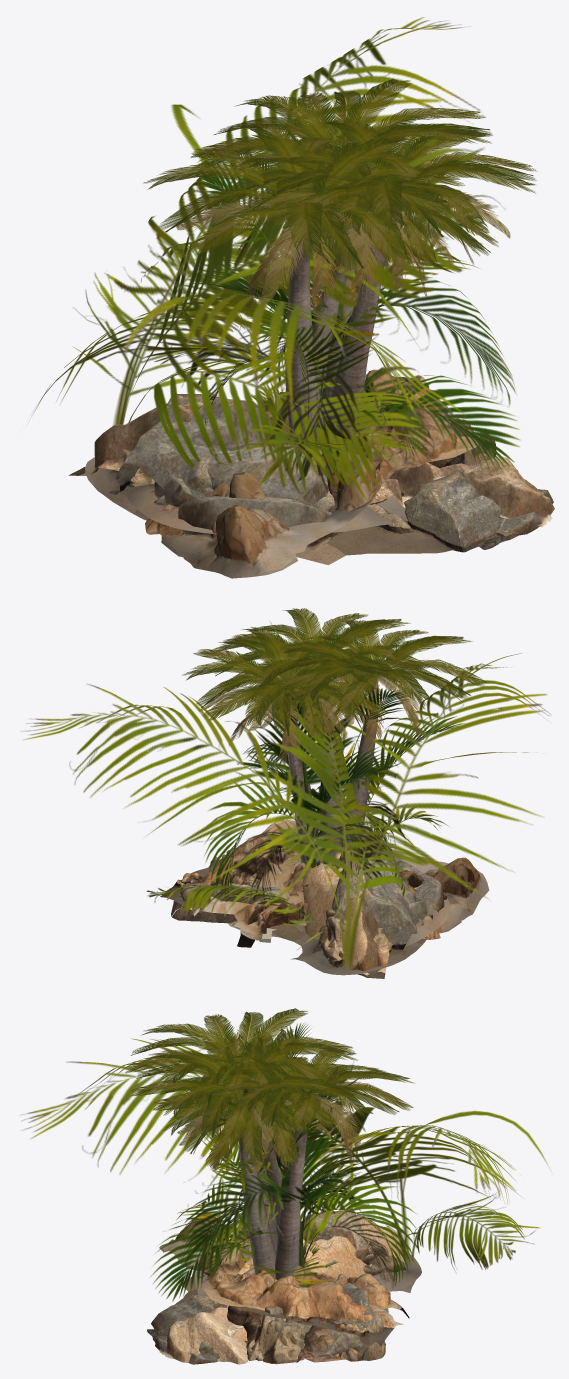
Rendered from island-specimens.glb.
The picture shows the model from 3 angles, top to bottom: view 1: azimuth 30°, elevation 25°; view 2: azimuth 150°, elevation 25°; view 3: azimuth 270°, elevation 25°; orthographic projection. The views are drawn at different scales.
Parts seen in each view (by area): view 1: shrub2, palm0, palm1, outcrop1, shrub0, outcrop5, palm2, shrub1, outcrop2, palm3, outcrop4, outcrop3 (+1 smaller); view 2: shrub2, palm2, palm0, outcrop1, shrub0, outcrop5, palm1, shrub1, outcrop4, outcrop2, palm3, outcrop3; view 3: shrub2, palm1, palm2, outcrop1, palm0, shrub0, shrub1, palm3, outcrop4, outcrop5, outcrop2, outcrop3 (+1 smaller).
Boxes of the visible parts, x1,y1,x2,y2 form: shrub2: (32,17,504,503); palm0: (143,123,464,449); palm1: (237,121,536,451); outcrop1: (161,369,478,578); shrub0: (136,99,515,489); outcrop5: (109,373,459,565); palm2: (190,78,492,422); shrub1: (197,151,520,496); outcrop2: (85,449,553,555); palm3: (233,148,498,398); outcrop4: (68,400,554,527); outcrop3: (126,417,496,534); shrub2: (21,621,551,970); palm2: (182,627,393,864); palm0: (276,620,487,856); outcrop1: (160,820,489,947); shrub0: (236,693,405,904); outcrop5: (171,854,450,955); palm1: (213,608,423,840); shrub1: (204,687,465,898); outcrop4: (262,820,389,978); outcrop2: (227,908,426,975); palm3: (240,645,415,864); outcrop3: (208,847,450,946); shrub2: (21,1038,550,1273); palm1: (131,1041,350,1274); palm2: (205,1049,414,1279); outcrop1: (159,1214,409,1346); palm0: (125,1008,357,1251); shrub0: (181,1061,389,1282); shrub1: (150,1022,417,1301); palm3: (153,1028,349,1240); outcrop4: (159,1216,405,1364); outcrop5: (182,1208,388,1361); outcrop2: (147,1239,421,1364); outcrop3: (195,1267,311,1364).
Size of the model in its own units: 1.75 by 1 by 1.96.
7 materials, 7 textured.
